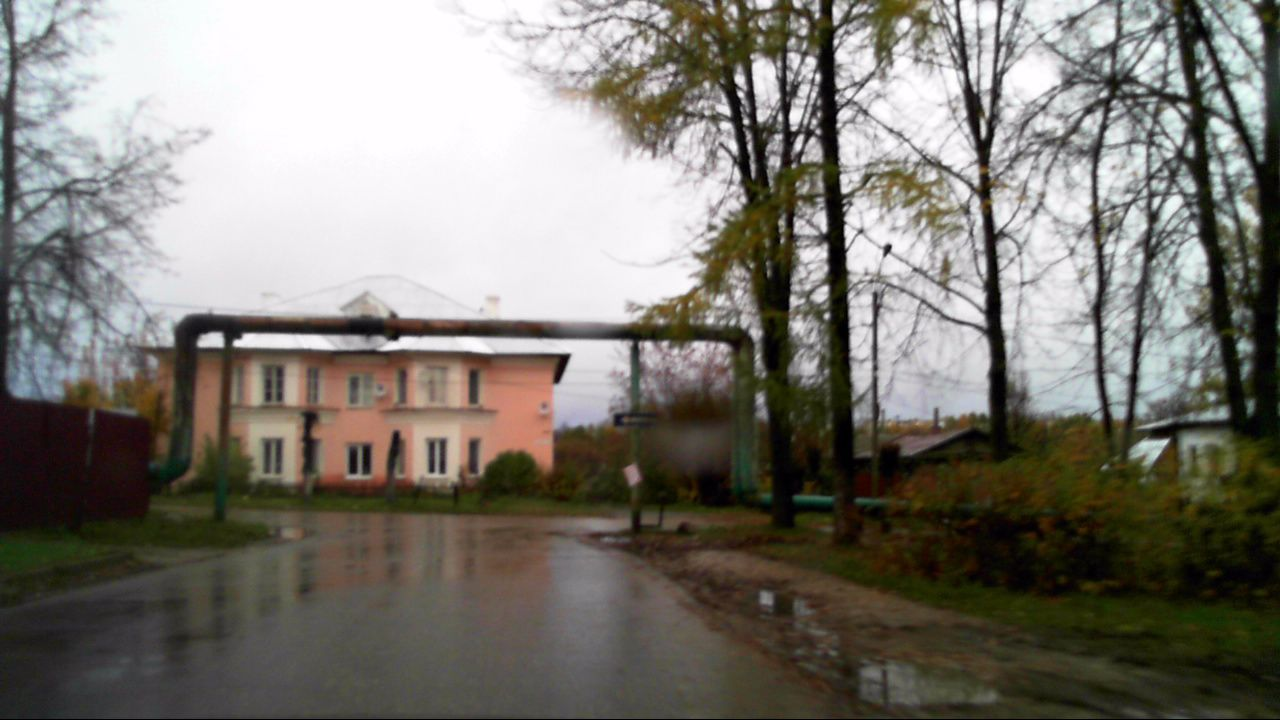One-Way Traffic: (614, 414, 656, 425)
